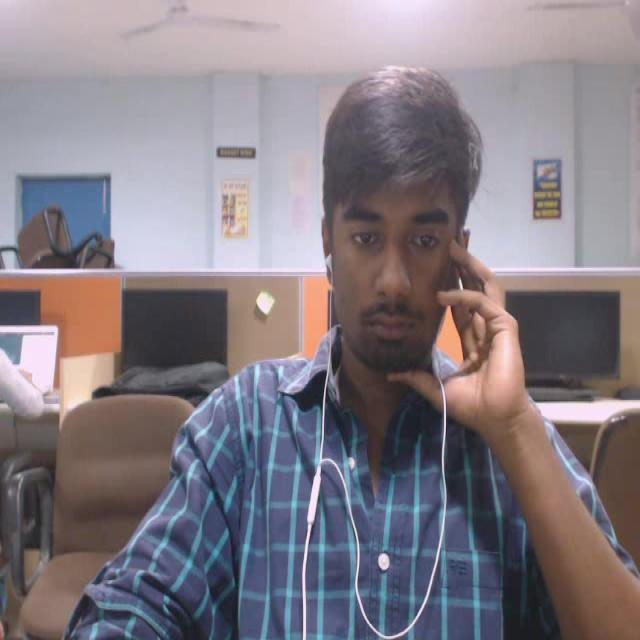Bored: (276, 36, 538, 438)
